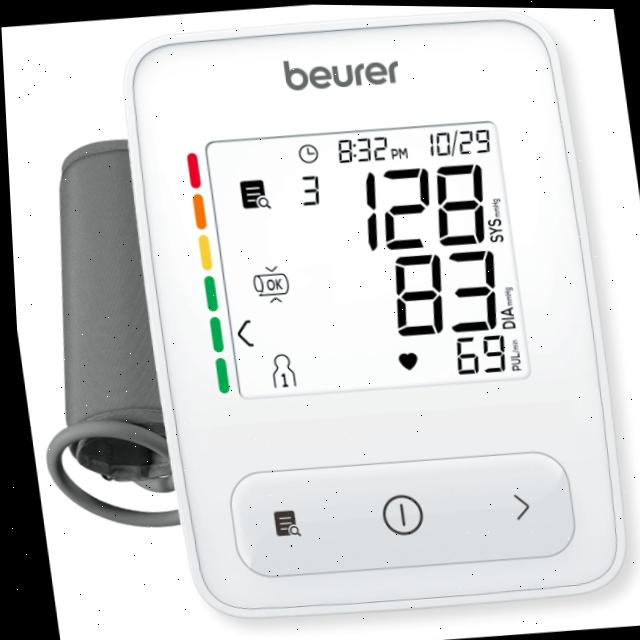dia: (378, 242, 505, 340)
pul: (445, 327, 504, 381)
ssd: (204, 117, 526, 398)
sys: (352, 155, 493, 256)
